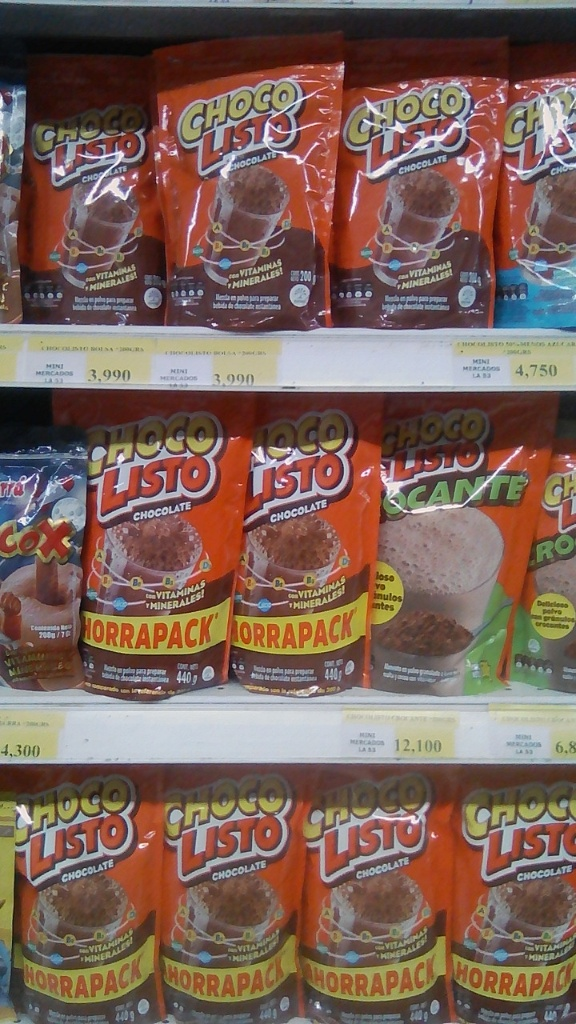COL0170102DYP50000: (374, 385, 554, 699)
COL0170103DYP44000: (225, 388, 379, 699)
COL0170104DYP20000: (499, 34, 575, 329)
